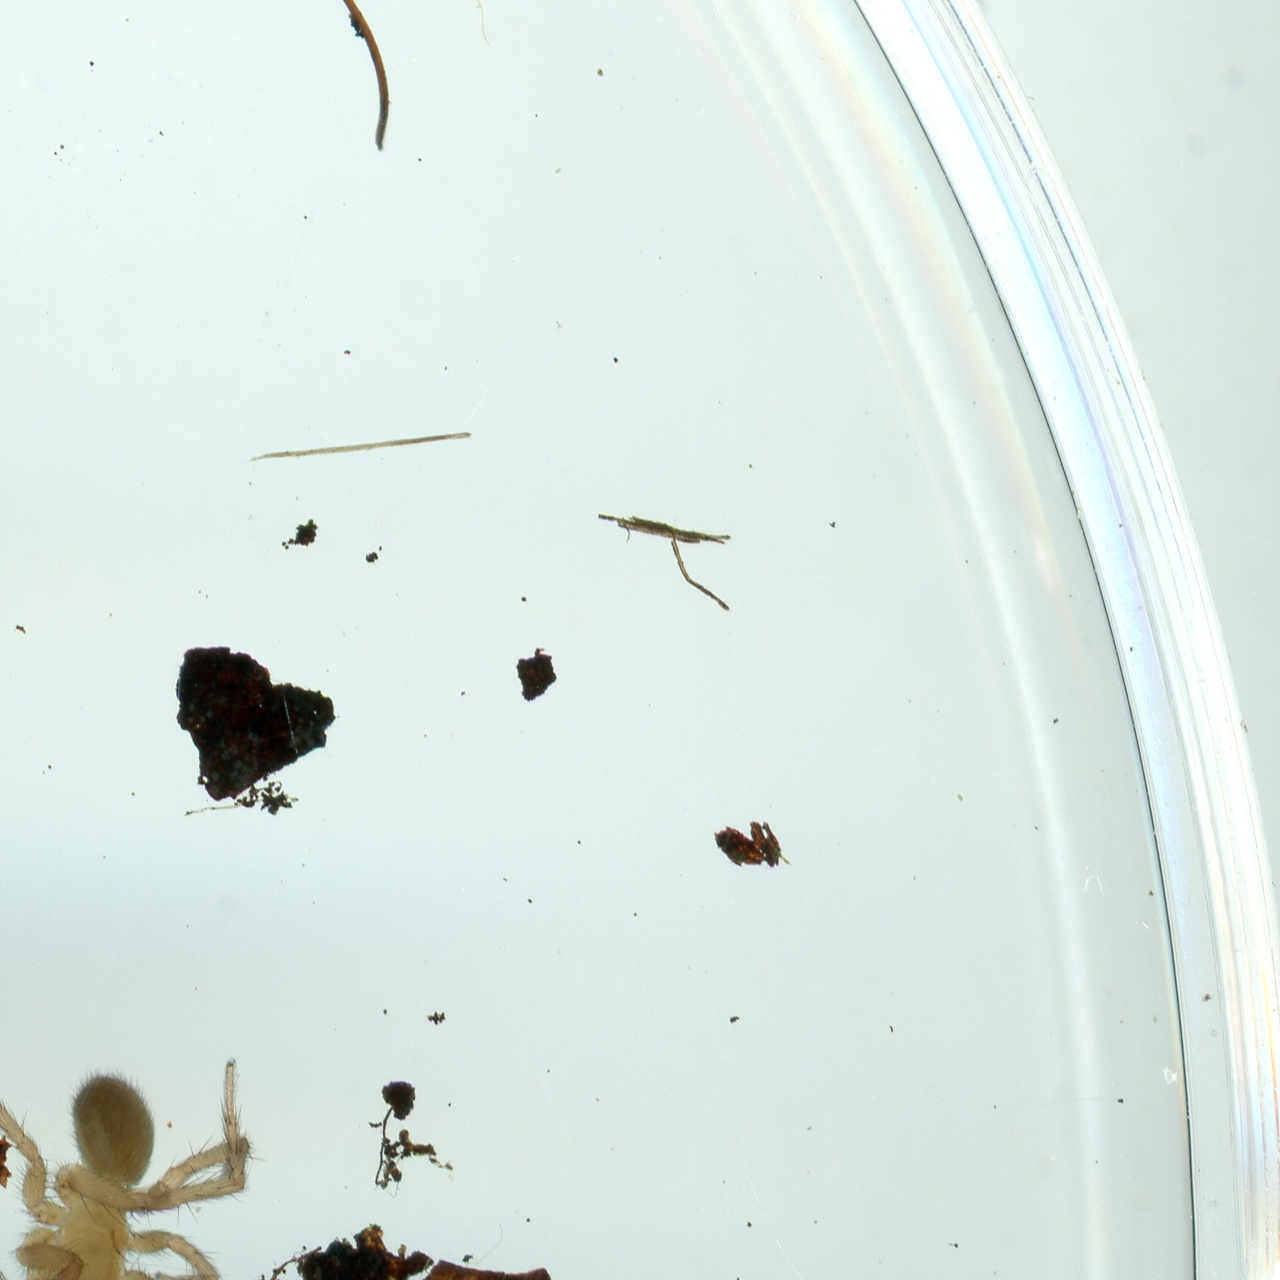arthropod: (0, 1056, 250, 1280)
